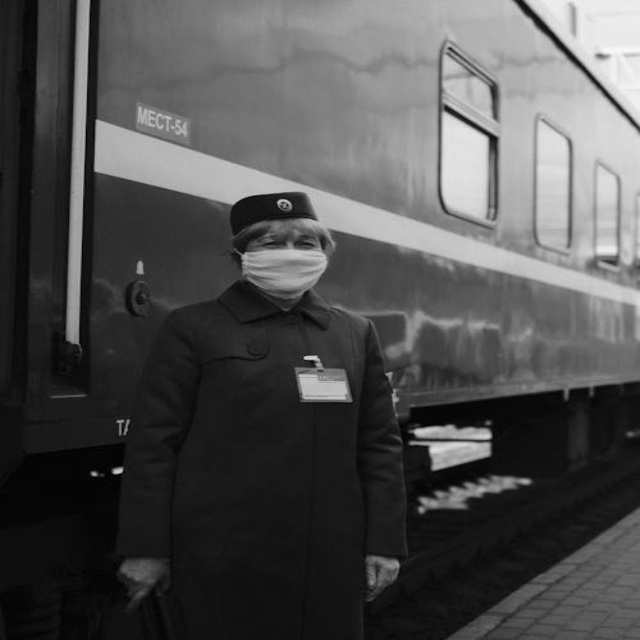Mascara: (240, 247, 328, 295)
Sin_gafas: (244, 238, 325, 253)
Sin_guantes: (108, 550, 173, 613), (360, 550, 407, 610)
